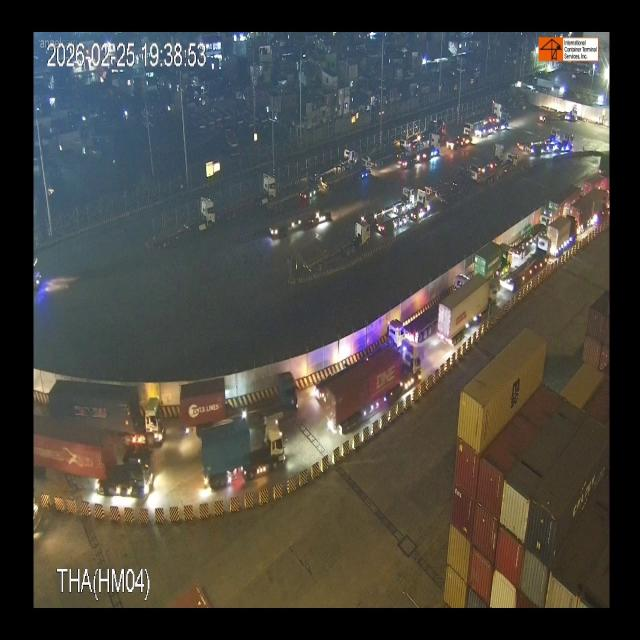truck: (322, 345, 424, 435), (30, 426, 148, 499), (55, 373, 169, 447), (178, 376, 304, 422), (196, 425, 290, 485), (294, 220, 372, 276), (447, 273, 499, 350), (148, 198, 220, 248), (495, 238, 549, 297), (223, 167, 277, 212), (363, 309, 405, 355), (547, 212, 583, 262), (476, 233, 514, 279)
